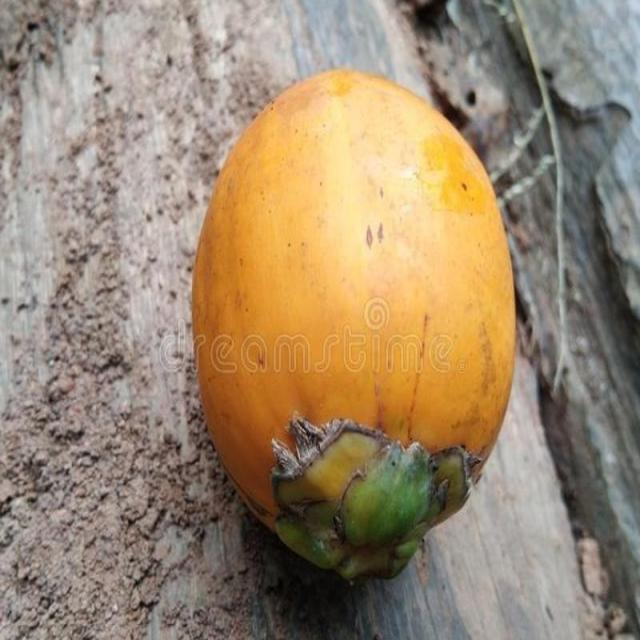good: (190, 69, 517, 587)
